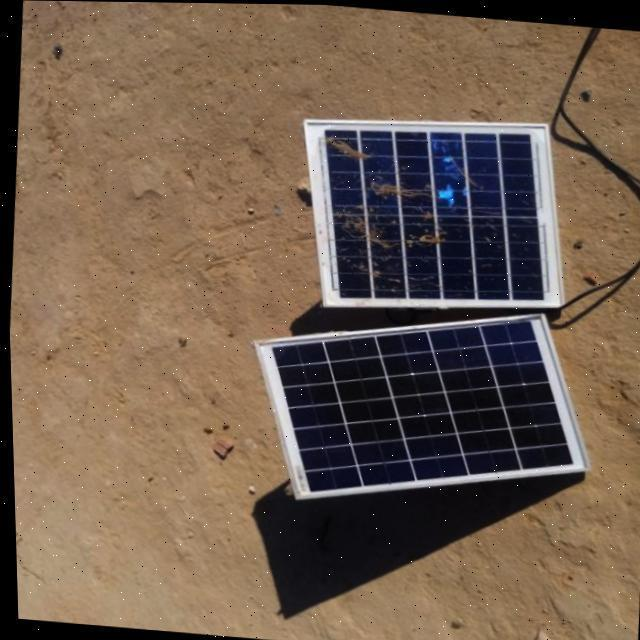Normal Solar Panel: (240, 289, 596, 523)
